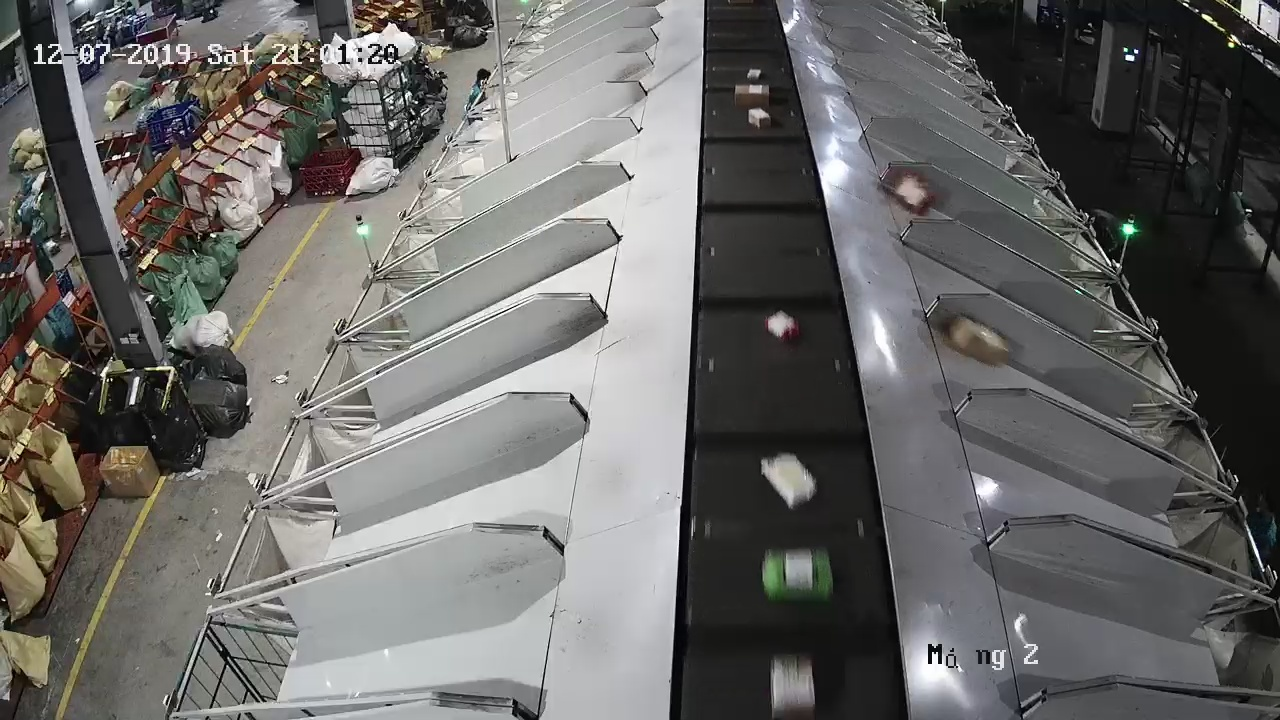parcel: (946, 313, 1012, 367), (890, 170, 936, 215)
